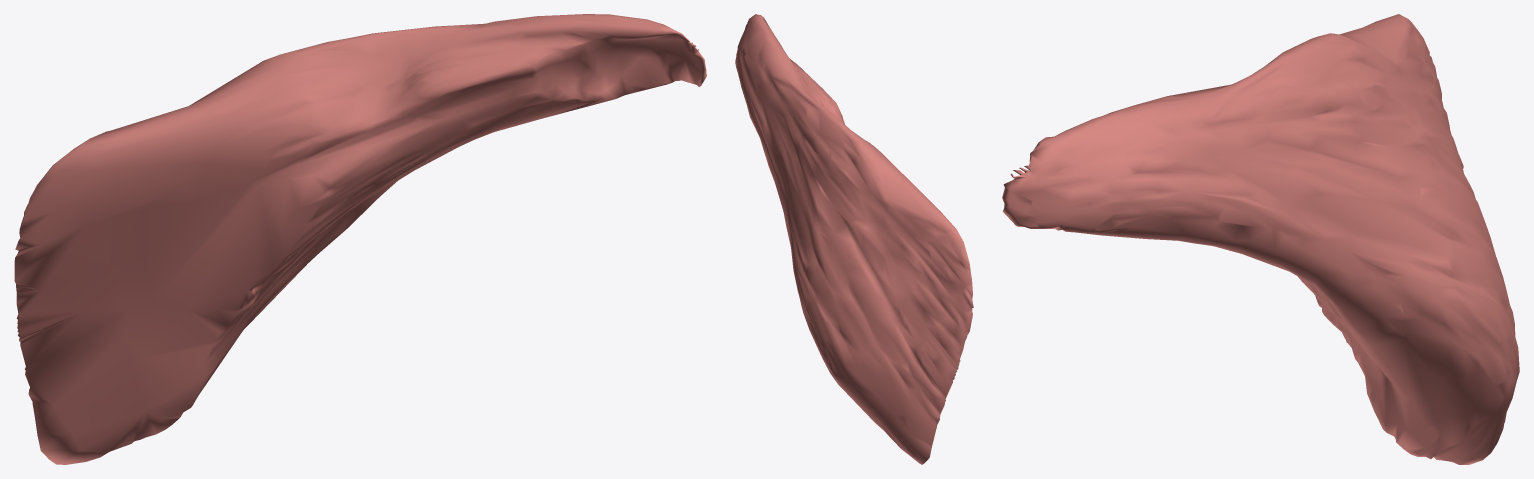
3 views of the same model, side by side, from view 1: azimuth 30°, elevation 25°; view 2: azimuth 150°, elevation 25°; view 3: azimuth 270°, elevation 25° (orthographic). The views are drawn at different scales.
Parts seen in each view (by area): view 1: ZA_87ff24e3a85dbdcc; view 2: ZA_87ff24e3a85dbdcc; view 3: ZA_87ff24e3a85dbdcc.
Boxes of the visible parts, left/top/right/bottom form: ZA_87ff24e3a85dbdcc: left=14, top=14, right=706, bottom=464; ZA_87ff24e3a85dbdcc: left=735, top=14, right=973, bottom=464; ZA_87ff24e3a85dbdcc: left=1002, top=14, right=1519, bottom=464.
Size of the model in its own units: 0.1326 by 0.1136 by 0.0918.
